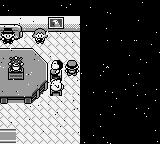leer: (8, 56, 24, 72), (48, 17, 64, 29)
main: (65, 60, 79, 76)
no-caminable: (0, 0, 159, 143), (0, 16, 47, 32), (65, 16, 80, 31)
npc: (0, 27, 15, 44), (32, 29, 48, 44), (50, 76, 64, 92), (50, 60, 63, 76)
puerta: (0, 127, 19, 143)
